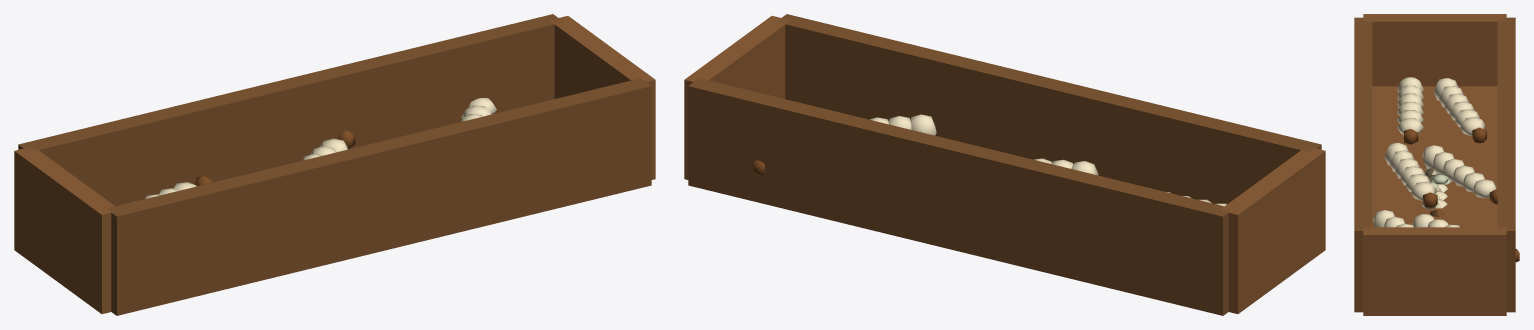
Rendered from Insect_Larva.fbx.
3 views of the same model, side by side, from view 1: azimuth 30°, elevation 25°; view 2: azimuth 150°, elevation 25°; view 3: azimuth 270°, elevation 25° (orthographic). The views are drawn at different scales.
Visible parts, largest first — view 1: Insect_Larva__Stack; view 2: Insect_Larva__Stack; view 3: Insect_Larva__Stack, Insect_Larva__Rotten, Insect_Larva.
Part boxes in pixels (x1=…): Insect_Larva__Stack: x1=14, y1=14, x2=655, y2=315; Insect_Larva__Stack: x1=684, y1=14, x2=1325, y2=315; Insect_Larva__Stack: x1=1354, y1=14, x2=1519, y2=315; Insect_Larva__Rotten: x1=1422, y1=166, x2=1451, y2=216; Insect_Larva: x1=1432, y1=170, x2=1447, y2=216.
Bounding box in the file's own units: 0.2335 × 0.04 × 0.0737.
